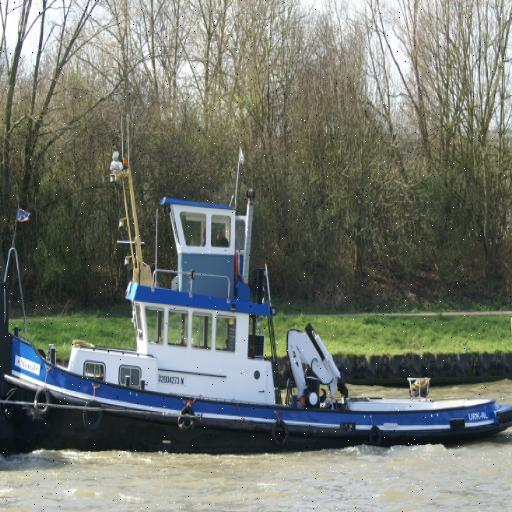tugboat: (1, 165, 512, 466)
